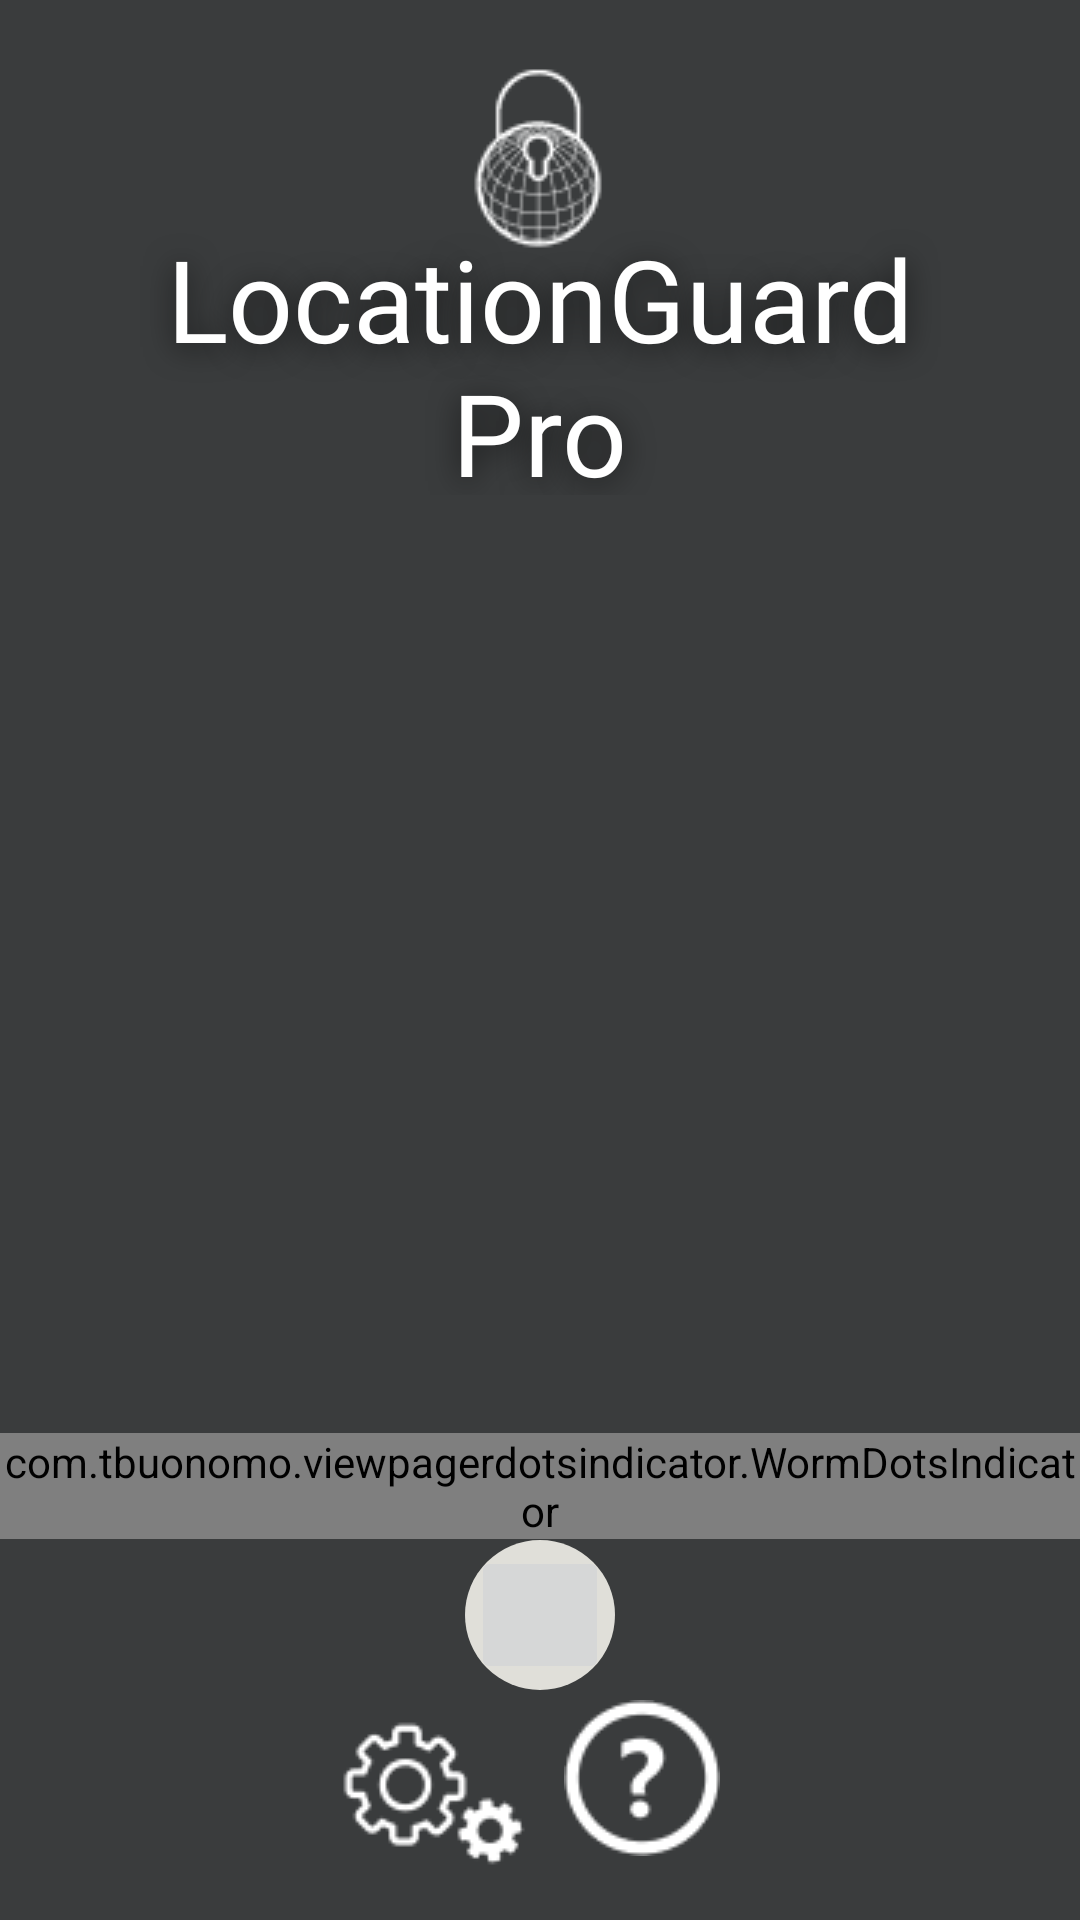

Named icons in this screenshot (1080*1920) and their bounding boxes, (x1, y1, x2, y2):
helpiconwhite: (564, 1700, 720, 1856)
settingsicon: (343, 1723, 524, 1864)
